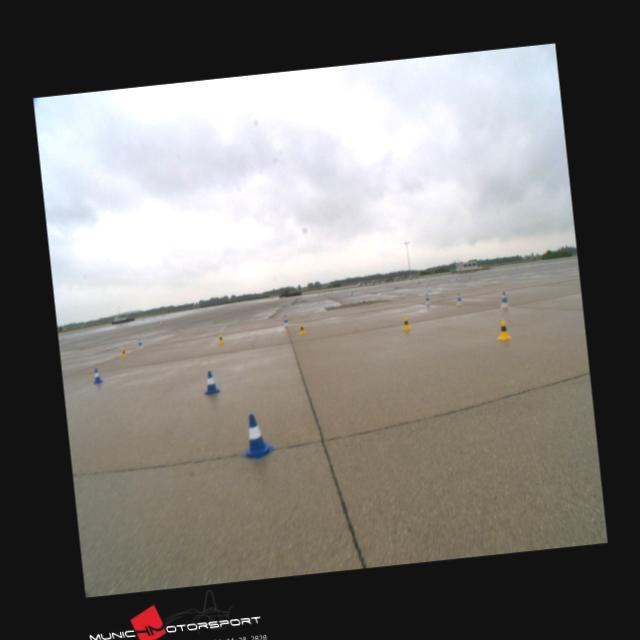blue_cone: (239, 413, 274, 460), (202, 369, 220, 394), (91, 368, 102, 382)
yellow_cone: (496, 318, 510, 339), (402, 316, 411, 330), (298, 323, 306, 334), (218, 334, 224, 344), (120, 347, 126, 357)
